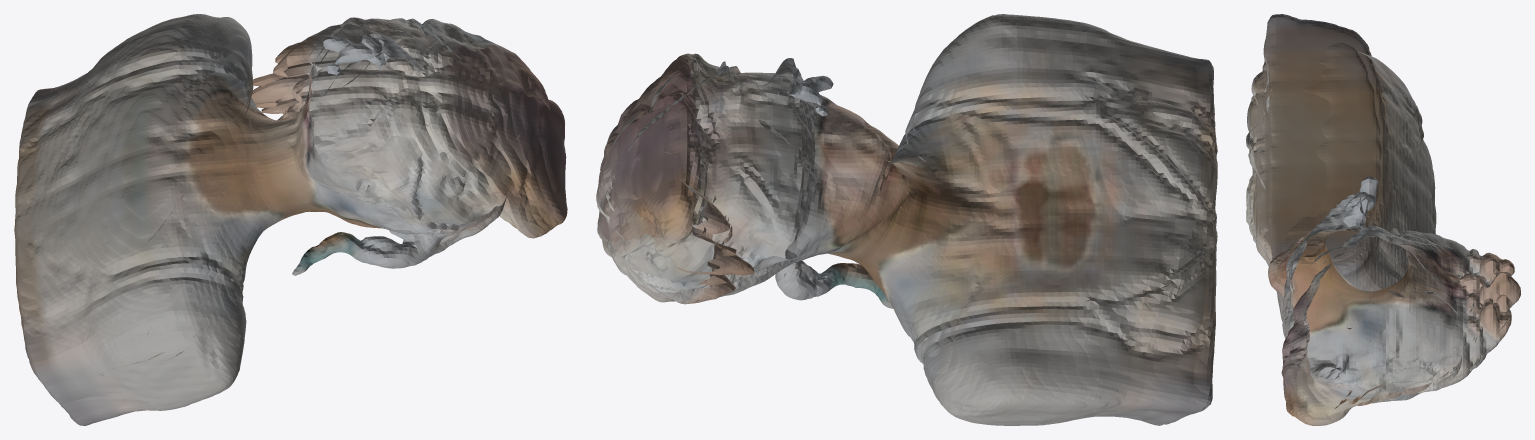
File: milla-triposr.glb
3 views of the same model, side by side, from view 1: azimuth 30°, elevation 25°; view 2: azimuth 150°, elevation 25°; view 3: azimuth 270°, elevation 25° (orthographic). The views are drawn at different scales.
Parts seen in each view (by area): view 1: world; view 2: world; view 3: world.
Boxes of the visible parts, left/top/right/bottom form: world: left=14, top=14, right=567, bottom=425; world: left=596, top=14, right=1217, bottom=425; world: left=1246, top=14, right=1520, bottom=425.
Size of the model in its own units: 0.9956 by 0.6785 by 0.5619.
